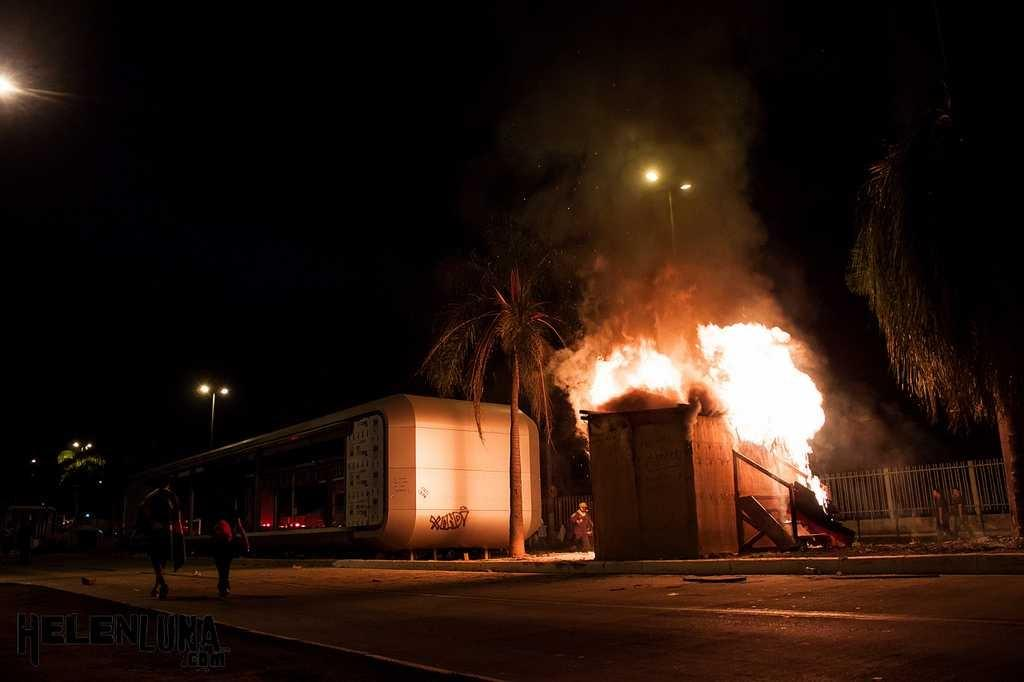fire: (732, 352, 813, 442)
